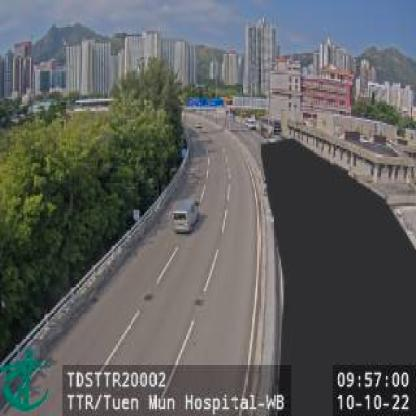Car: (172, 197, 201, 234)
